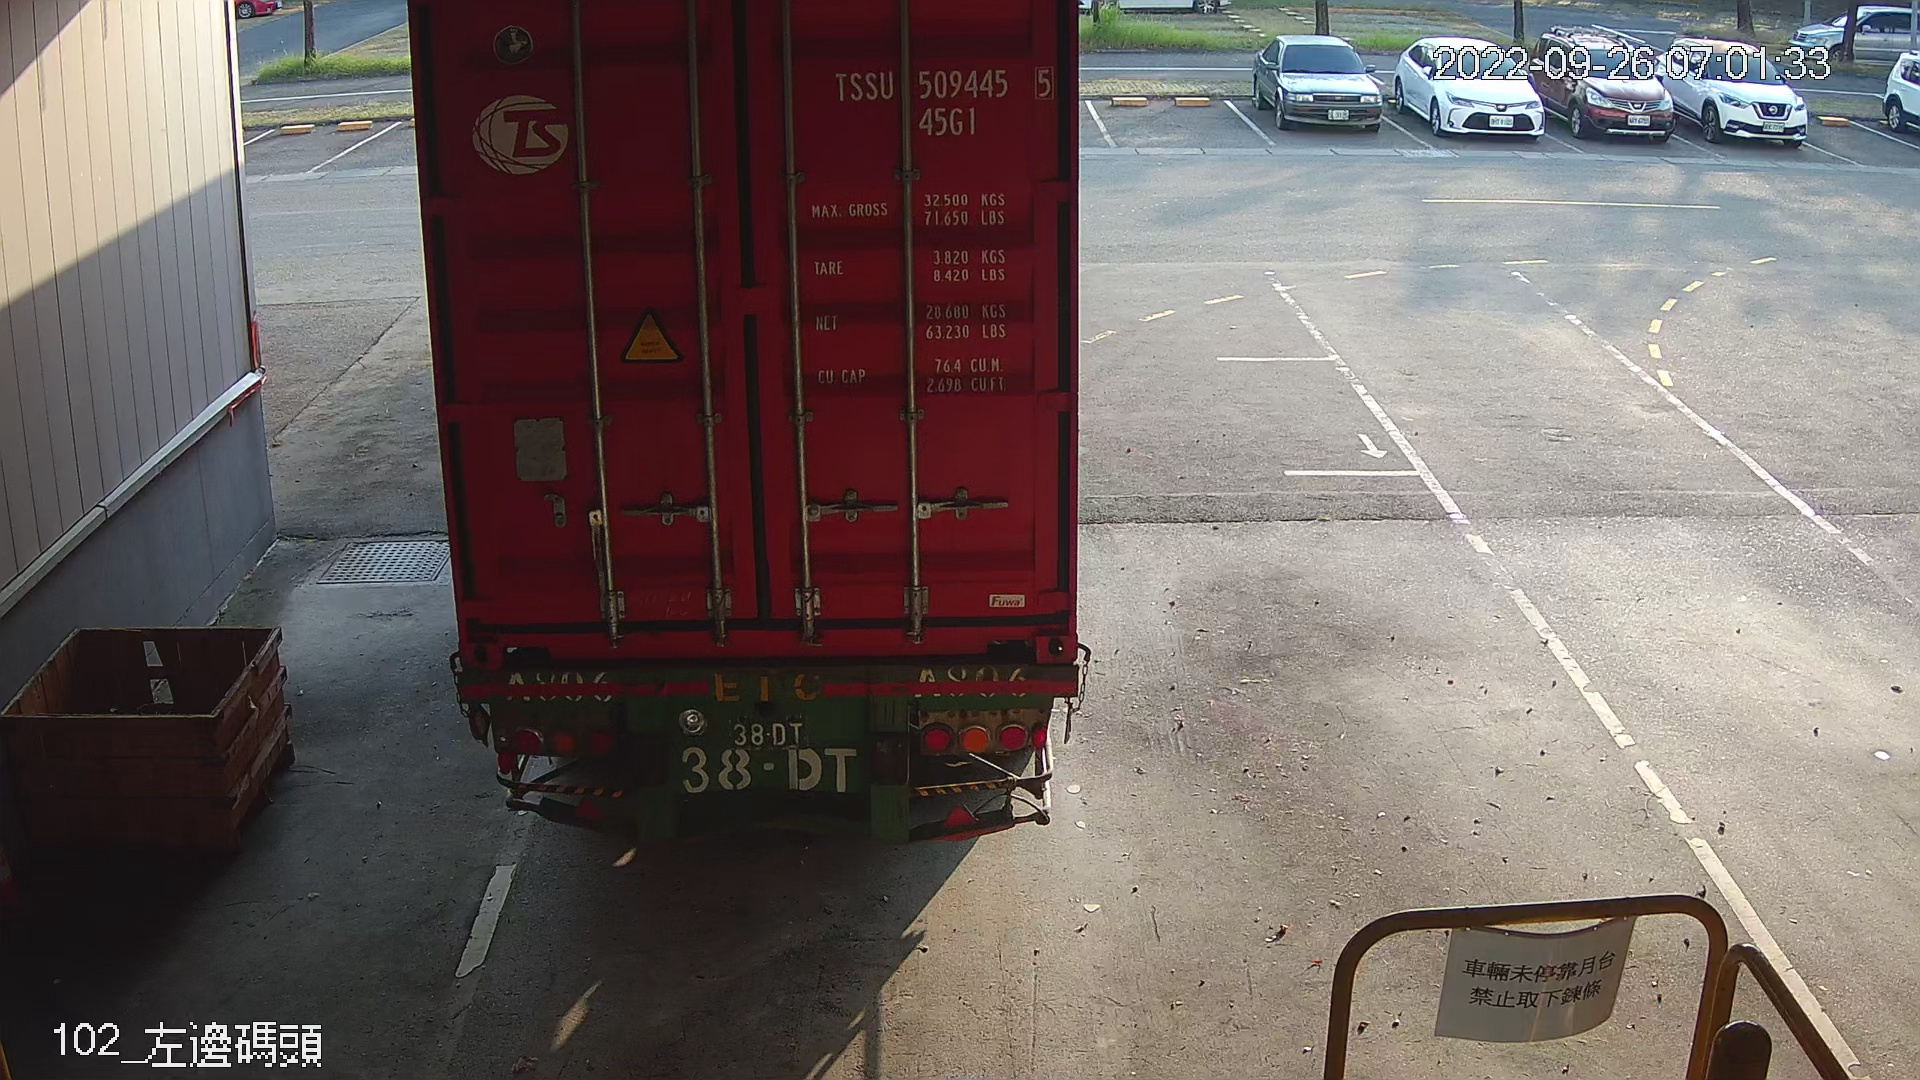container: (822, 58, 1063, 142)
